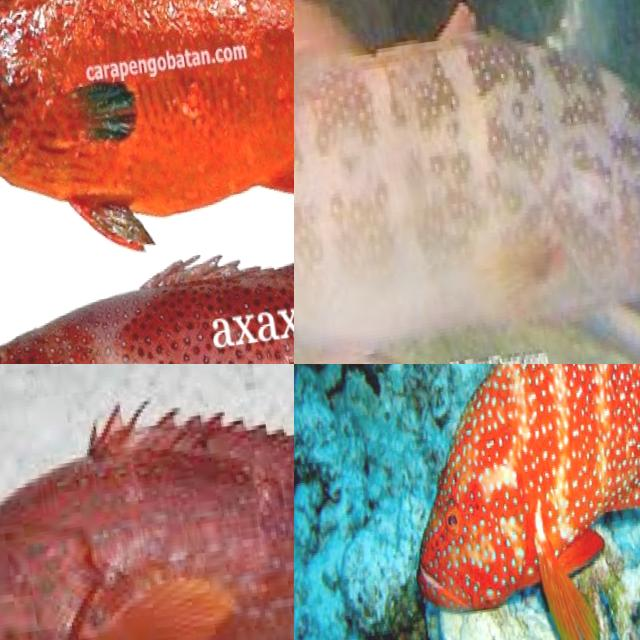Plectropomus-leopardus: (294, 0, 640, 364), (0, 0, 294, 298), (0, 364, 294, 640), (374, 364, 640, 640), (0, 199, 294, 364)
